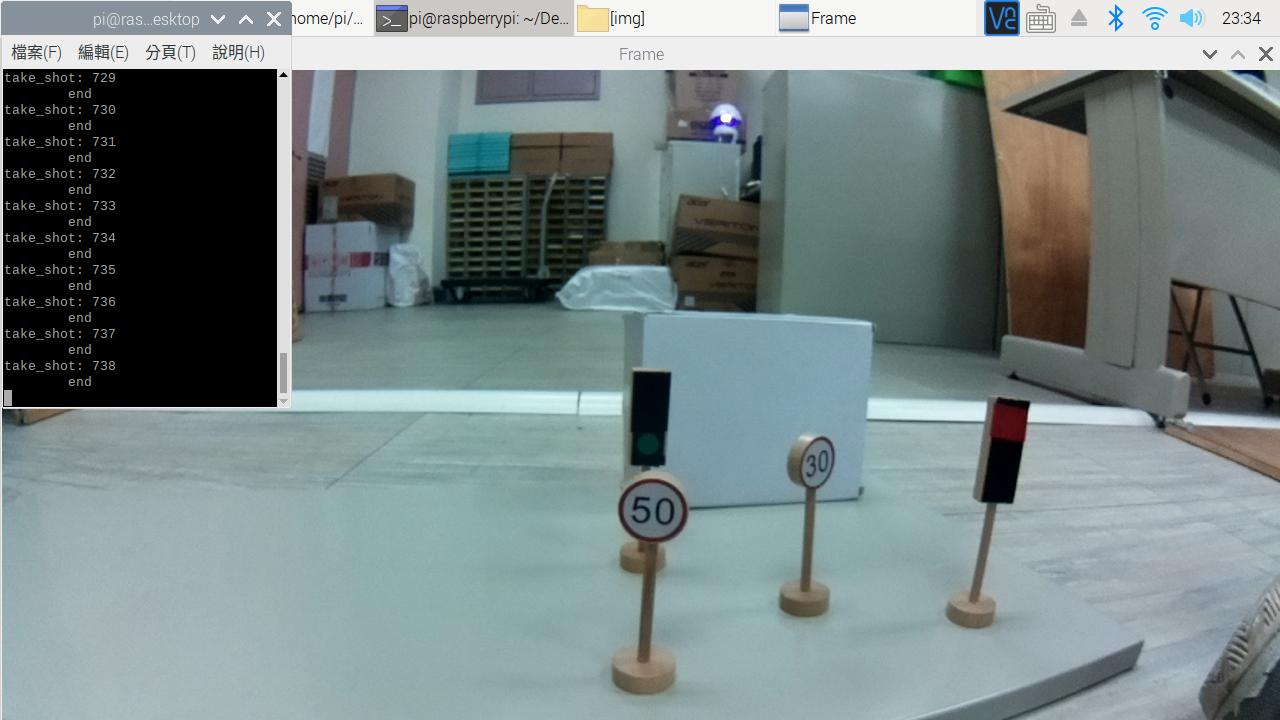Green: (614, 364, 678, 468)
Red: (969, 386, 1043, 505)
Speed30: (766, 426, 860, 500)
Speed50: (611, 474, 700, 551)
